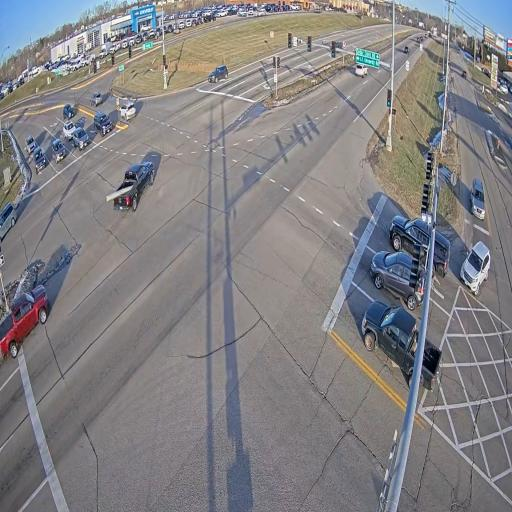pickup: (361, 300, 419, 388), (0, 285, 49, 358), (114, 161, 155, 211), (420, 338, 442, 390)
suv: (370, 251, 424, 310), (389, 215, 430, 267), (460, 241, 490, 295), (434, 233, 450, 277), (471, 178, 485, 219), (94, 111, 112, 137), (72, 127, 90, 150), (33, 146, 46, 173), (119, 101, 136, 121), (52, 138, 65, 163), (209, 65, 228, 82), (63, 121, 75, 141), (26, 135, 37, 155), (90, 91, 103, 107), (63, 104, 75, 119), (356, 64, 367, 77), (404, 46, 409, 54), (461, 71, 466, 78), (420, 36, 423, 41), (417, 37, 420, 42), (425, 34, 427, 37)
